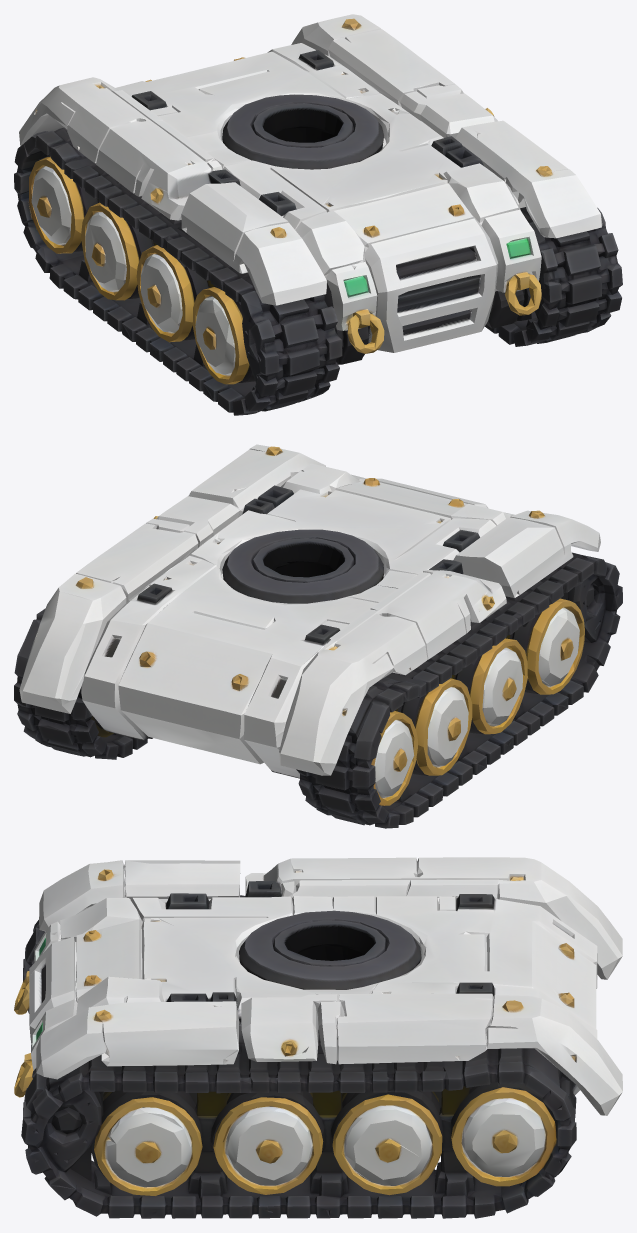
Rendered from heavy_tracks.glb.
3 views of the same model, one above another, from view 1: azimuth 30°, elevation 25°; view 2: azimuth 150°, elevation 25°; view 3: azimuth 270°, elevation 25° (orthographic). The views are drawn at different scales.
Parts seen in each view (by area): view 1: model; view 2: model; view 3: model.
Boxes of the visible parts, <box> form: model: <box>14,14,622,415</box>; model: <box>14,444,622,828</box>; model: <box>14,857,622,1218</box>.
Size of the model in its own units: 1.41 by 0.6738 by 1.9.
1 material, 1 textured.
